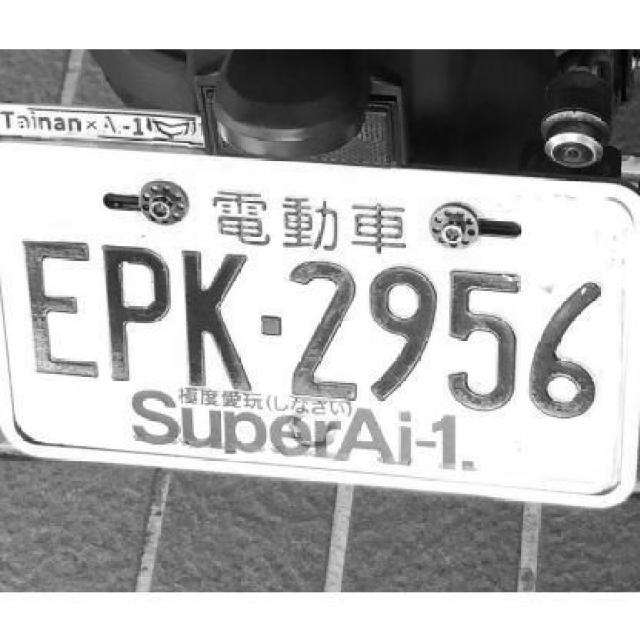-: (258, 314, 282, 337)
2: (284, 258, 362, 402)
5: (444, 269, 522, 409)
6: (528, 274, 608, 423)
9: (365, 257, 440, 401)
E: (15, 235, 99, 378)
K: (177, 246, 254, 389)
P: (101, 237, 176, 388)
